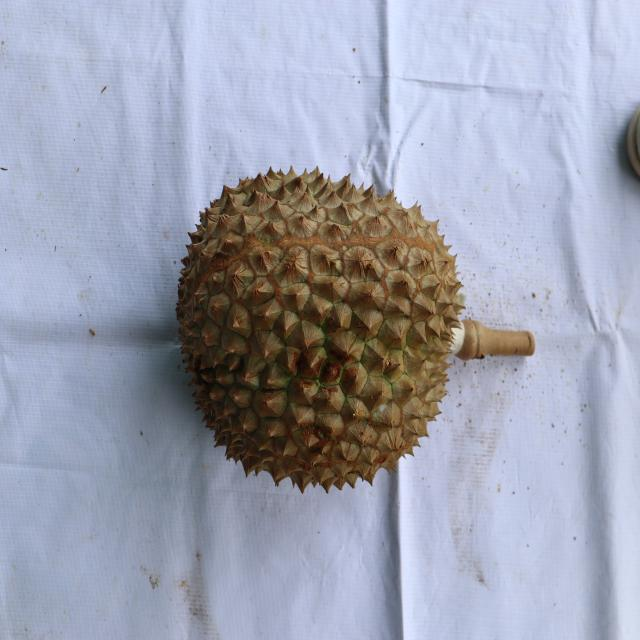mature: (174, 165, 464, 498)
